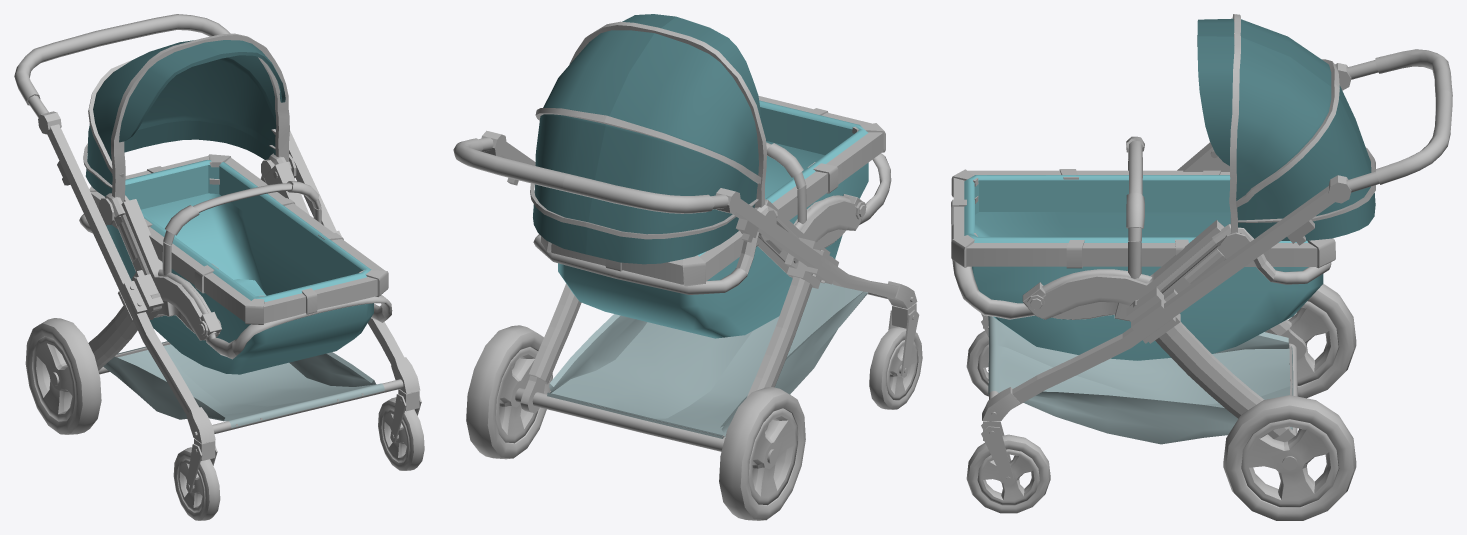
The model's file is baby_car.fbx.
3 views of the same model, side by side, from view 1: azimuth 30°, elevation 25°; view 2: azimuth 150°, elevation 25°; view 3: azimuth 270°, elevation 25° (orthographic). The views are drawn at different scales.
Parts seen in each view (by area): view 1: polySurface184, polySurface196, polySurface81, polySurface173, polySurface117, polySurface83, polySurface93, polySurface191, polySurface86, polySurface126, polySurface187, polySurface113 (+14 smaller); view 2: polySurface196, polySurface81, polySurface184, polySurface83, polySurface173, polySurface85, polySurface93, polySurface126, polySurface186, polySurface117, polySurface86, polySurface130 (+14 smaller); view 3: polySurface184, polySurface196, polySurface81, polySurface173, polySurface85, polySurface116, polySurface127, polySurface88, polySurface93, polySurface120, polySurface83, polySurface82 (+15 smaller).
Boxes of the visible parts, x1,y1,x2,y2 form: polySurface184: (106,160,373,374); polySurface196: (85,40,285,196); polySurface81: (103,341,384,427); polySurface173: (90,156,384,323); polySurface117: (47,124,199,415); polySurface83: (25,318,101,434); polySurface93: (14,14,230,105); polySurface191: (111,33,289,202); polySurface86: (114,199,221,340); polySurface126: (32,336,75,421); polySurface187: (162,181,321,275); polySurface113: (205,295,392,359); polySurface196: (533,14,761,264); polySurface81: (547,282,867,438); polySurface184: (558,100,868,338); polySurface83: (719,387,805,520); polySurface173: (551,96,883,284); polySurface85: (466,325,552,459); polySurface93: (453,138,714,213); polySurface126: (748,408,797,505); polySurface186: (533,204,777,294); polySurface117: (733,199,898,300); polySurface86: (757,194,866,276); polySurface130: (532,392,724,451); polySurface184: (964,175,1323,360); polySurface196: (1197,18,1375,240); polySurface81: (988,316,1293,444); polySurface173: (953,170,1333,266); polySurface85: (1223,395,1356,520); polySurface116: (1012,186,1334,408); polySurface127: (1241,419,1338,507); polySurface88: (1022,220,1224,321); polySurface93: (1375,49,1452,184); polySurface120: (1155,322,1289,439); polySurface83: (1297,284,1356,398); polySurface82: (966,434,1050,513).
Size of the model in its own units: 15.44 by 22.97 by 24.47.
